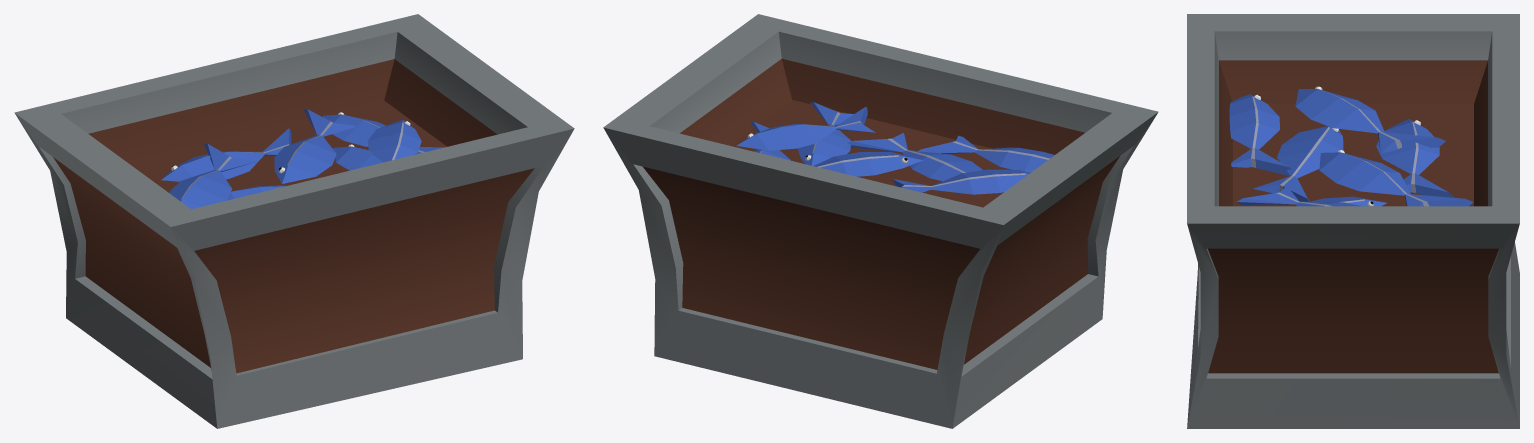
The model's file is simple_chest_down.fbx.
3 views of the same model, side by side, from view 1: azimuth 30°, elevation 25°; view 2: azimuth 150°, elevation 25°; view 3: azimuth 270°, elevation 25° (orthographic). The views are drawn at different scales.
Visible parts, largest first — view 1: simple_chest_down; view 2: simple_chest_down; view 3: simple_chest_down.
Part boxes in pixels (box(x1,y1,x2,y2)): simple_chest_down: box(14, 14, 574, 428); simple_chest_down: box(603, 14, 1158, 428); simple_chest_down: box(1187, 14, 1519, 428).
Size of the model in its own units: 7.97 by 4.11 by 5.35.
